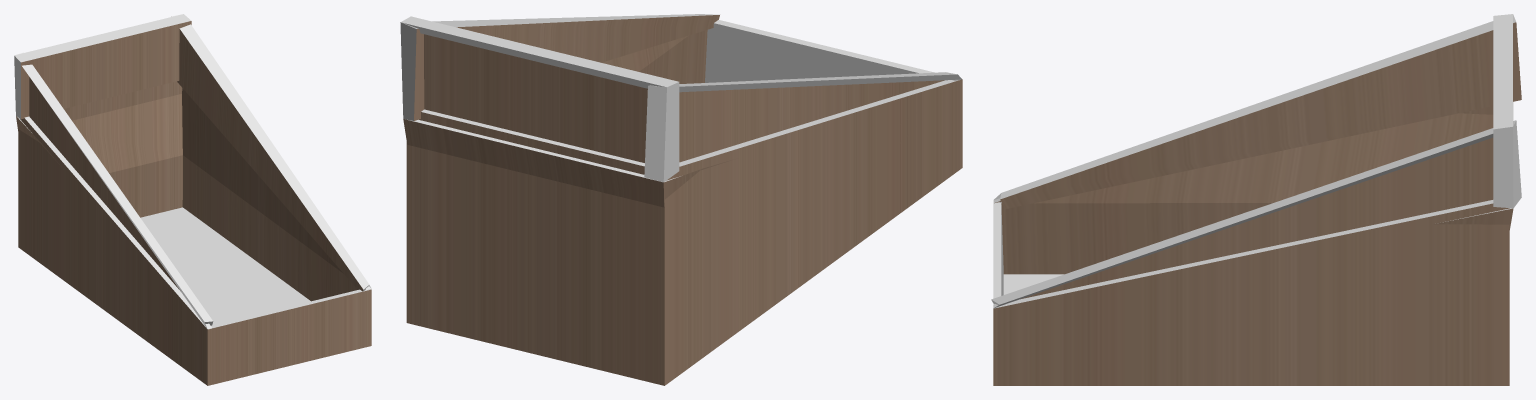
File: VisitingCardHolder1.gltf
3 views of the same model, side by side, from view 1: azimuth 30°, elevation 25°; view 2: azimuth 150°, elevation 25°; view 3: azimuth 270°, elevation 25° (orthographic). The views are drawn at different scales.
Parts seen in each view (by area): view 1: Plane; view 2: Plane; view 3: Plane.
Part boxes in pixels (x1,y1,x2,y2): Plane: (14, 14, 371, 385); Plane: (400, 14, 962, 385); Plane: (991, 14, 1521, 385).
Bounding box in the file's own units: 2.08 × 2.23 × 4.11.
5 materials, 4 textured.
